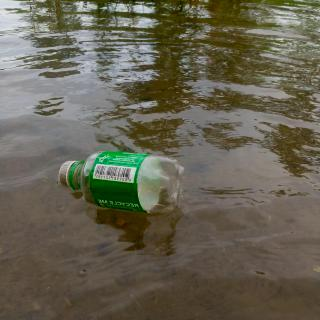bottle: (58, 150, 186, 216)
